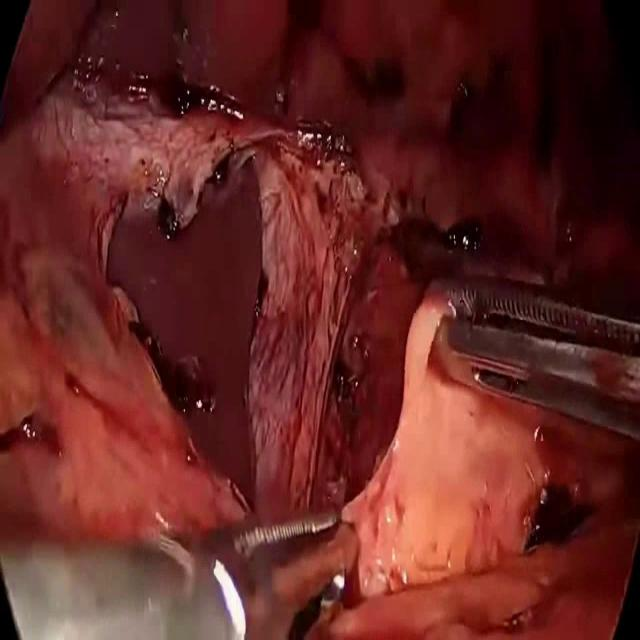surgical-area: (0, 0, 640, 639)
surgical-tool: (0, 505, 340, 639), (447, 281, 640, 439)
